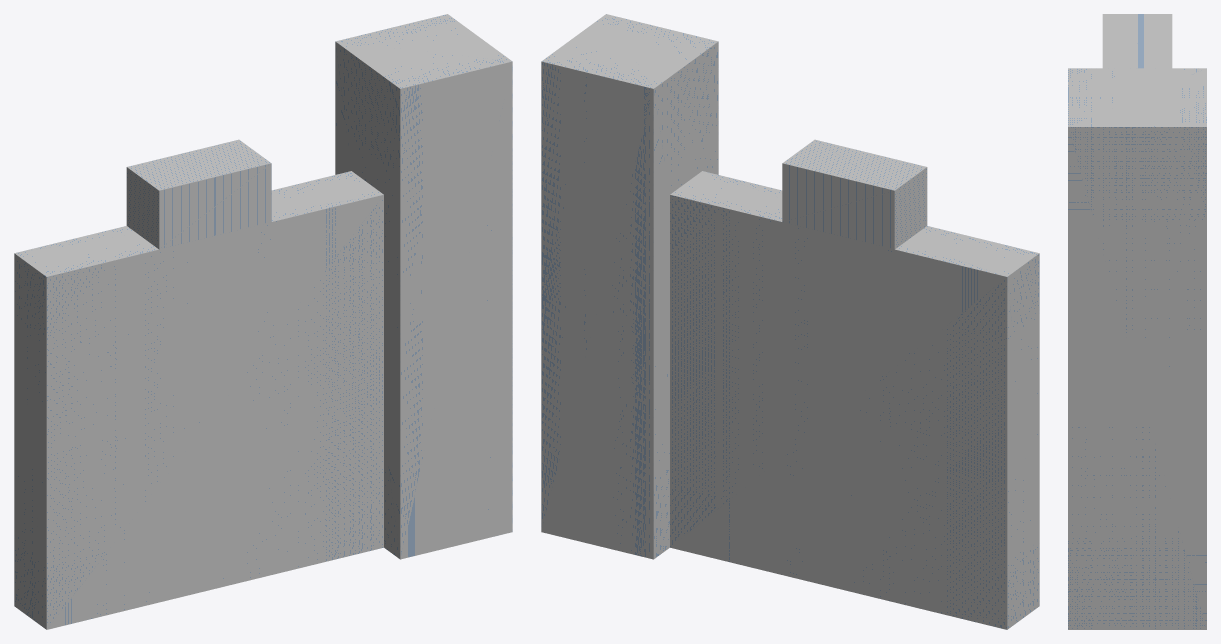
The model's file is stone-fence.fbx.
3 views of the same model, side by side, from view 1: azimuth 30°, elevation 25°; view 2: azimuth 150°, elevation 25°; view 3: azimuth 270°, elevation 25° (orthographic). The views are drawn at different scales.
Parts seen in each view (by area): view 1: generated; view 2: generated; view 3: generated.
Boxes of the visible parts, x1,y1,x2,y2 form: generated: [14, 14, 512, 629]; generated: [541, 14, 1039, 629]; generated: [1068, 14, 1206, 629].
Size of the model in its own units: 80 by 80 by 20.
1 material, 1 textured.
